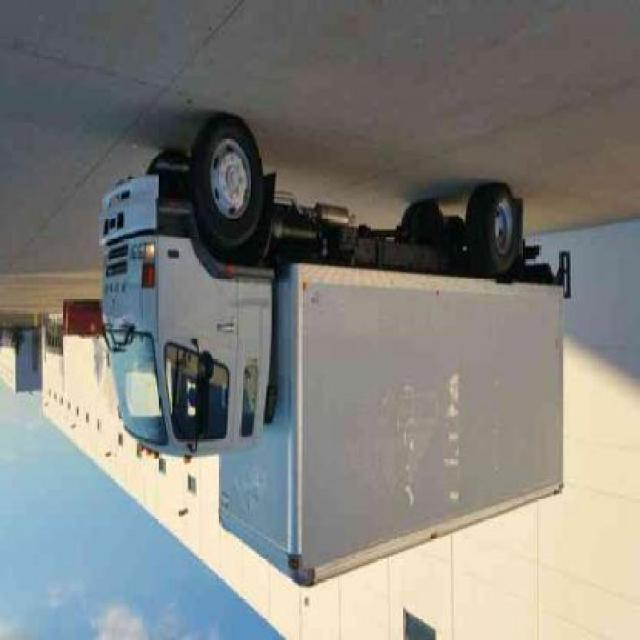truck: (101, 125, 573, 585)
